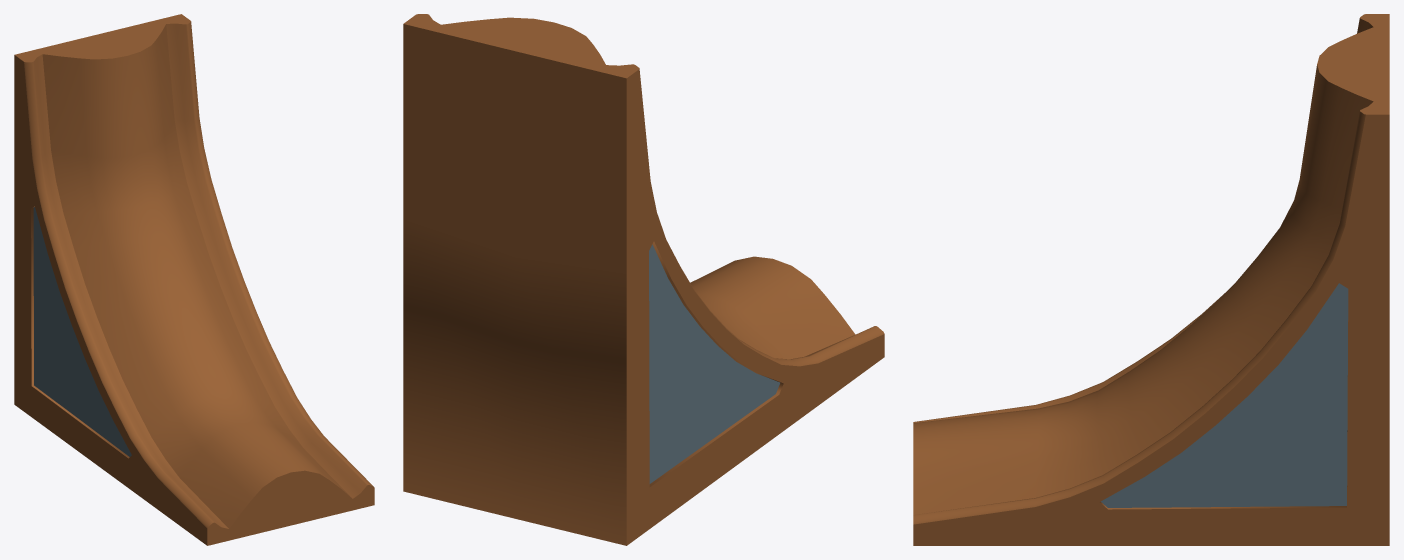
The model's file is 24_25_wall_deco_round_corner_L_blue.glb.
3 views of the same model, side by side, from view 1: azimuth 30°, elevation 25°; view 2: azimuth 150°, elevation 25°; view 3: azimuth 270°, elevation 25° (orthographic). The views are drawn at different scales.
Visible parts, largest first — view 1: Plane, Plane.001; view 2: Plane, Plane.001; view 3: Plane, Plane.001.
Part boxes in pixels (x1,y1,x2,y2): Plane: (14, 14, 374, 545); Plane.001: (33, 207, 131, 456); Plane: (403, 14, 884, 545); Plane.001: (649, 244, 779, 483); Plane: (913, 14, 1389, 545); Plane.001: (1101, 283, 1348, 507).
Bounding box in the file's own units: 0.75 × 1.5 × 1.5.
